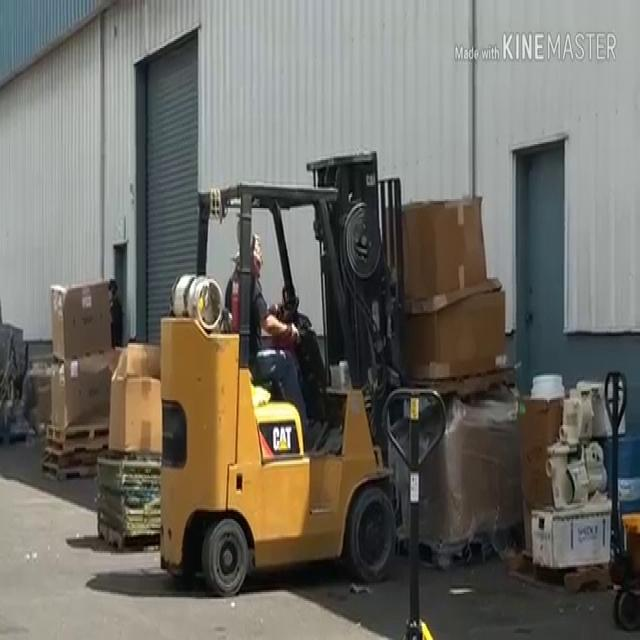Chariot elevateur: (151, 139, 409, 599)
